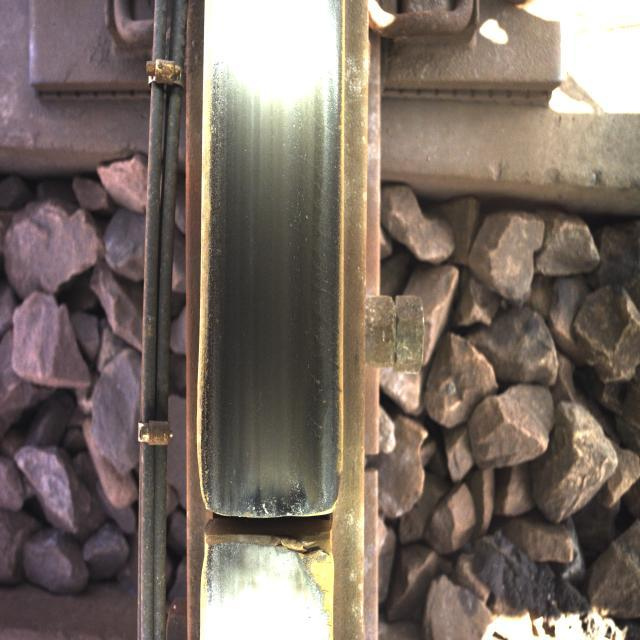spalling: (162, 450, 386, 608)
